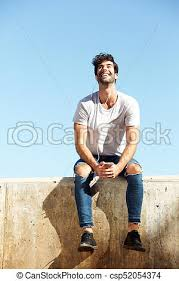sitting: (59, 48, 153, 260)
